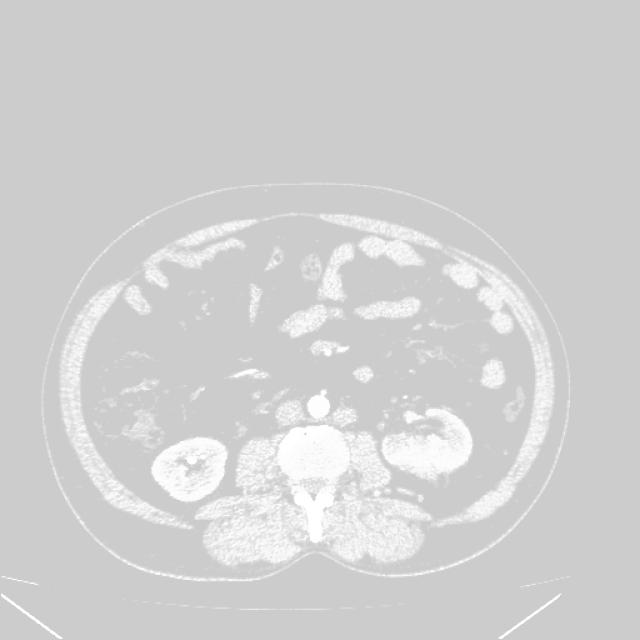TUMOR: (116, 291, 555, 491)
